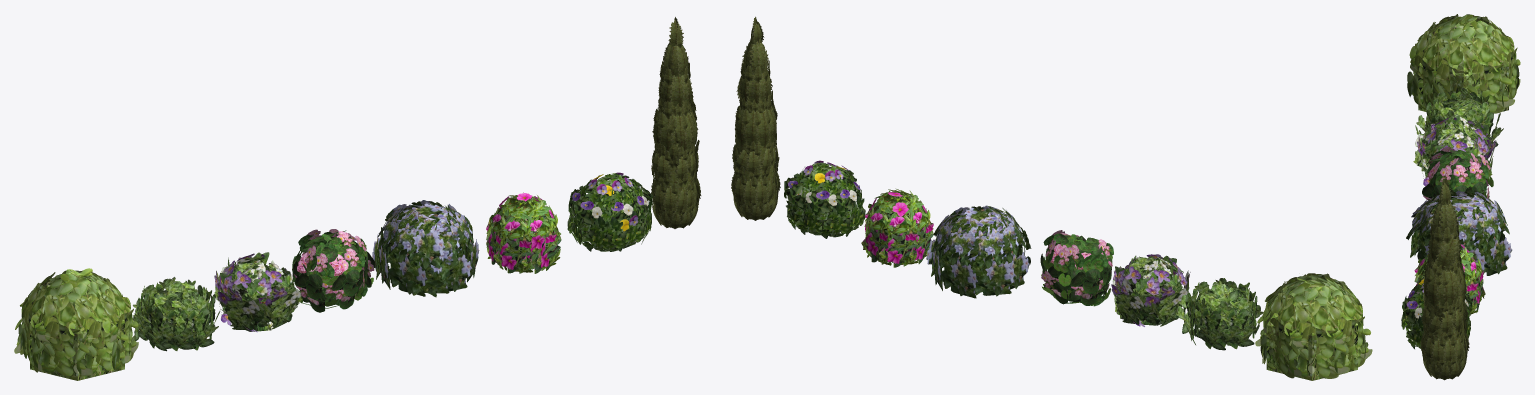
File: bushes tepi bench.obj
3 renders of one model, left to right at view 1: azimuth 30°, elevation 25°; view 2: azimuth 150°, elevation 25°; view 3: azimuth 270°, elevation 25°, orthographic. The views are drawn at different scales.
Visible parts, largest first — view 1: Mesh641 Group733 Group639 Component_14_1 Model, Mesh379 Group423 Group331 Component_14_1 Model, Mesh582 Group670 Group668 Group639 Component_14_1 Model, Mesh554 Group638 Group430 Component_14_1 Model, Mesh588 Group676 Group668 Group639 Component_14_1 Model; view 2: Mesh641 Group733 Group639 Component_14_1 Model, Mesh354 Group396 Group390 Group331 Component_14_1 Model, Mesh963 Group1104 Group885 Component_14_1 Model, Mesh612 Group702 Group694 Group639 Component_14_1 Model, Mesh344 Group385 Group379 Group331 Component_14_1 Model, Mesh355 Group397 Group390 Group331 Component_14_1 Model, Mesh704 Group802 Group798 Group748 Component_14_1 Model, Mesh345 Group386 Group379 Group331 Component_14_1 Model, Mesh266 Group297 Group288 Group198 Component_14_1 Model; view 3: Mesh641 Group733 Group639 Component_14_1 Model, Mesh963 Group1104 Group885 Component_14_1 Model, Mesh636 Group728 Group720 Group639 Component_14_1 Model, Mesh325 Group364 Group357 Group331 Component_14_1 Model, Mesh630 Group722 Group720 Group639 Component_14_1 Model, Mesh334 Group374 Group368 Group331 Component_14_1 Model, Mesh563 Group649 Group641 Group639 Component_14_1 Model, Mesh926 Group1060 Group1056 Group885 Component_14_1 Model, Mesh335 Group375 Group368 Group331 Component_14_1 Model, Mesh557 Group643 Group641 Group639 Component_14_1 Model, Mesh576 Group663 Group655 Group639 Component_14_1 Model, Mesh882 Group1001 Group999 Group885 Component_14_1 Model (+73 smaller).
Boxes of the visible parts, x1,y1,x2,y2 form: Mesh641 Group733 Group639 Component_14_1 Model: [30, 277, 124, 380]; Mesh379 Group423 Group331 Component_14_1 Model: [412, 229, 445, 268]; Mesh582 Group670 Group668 Group639 Component_14_1 Model: [45, 321, 79, 351]; Mesh554 Group638 Group430 Component_14_1 Model: [580, 181, 648, 248]; Mesh588 Group676 Group668 Group639 Component_14_1 Model: [42, 294, 73, 322]; Mesh641 Group733 Group639 Component_14_1 Model: [1266, 279, 1357, 380]; Mesh354 Group396 Group390 Group331 Component_14_1 Model: [985, 261, 1016, 296]; Mesh963 Group1104 Group885 Component_14_1 Model: [737, 32, 775, 219]; Mesh612 Group702 Group694 Group639 Component_14_1 Model: [1295, 300, 1327, 325]; Mesh344 Group385 Group379 Group331 Component_14_1 Model: [950, 260, 977, 295]; Mesh355 Group397 Group390 Group331 Component_14_1 Model: [981, 232, 1010, 262]; Mesh704 Group802 Group798 Group748 Component_14_1 Model: [879, 232, 917, 267]; Mesh345 Group386 Group379 Group331 Component_14_1 Model: [951, 233, 979, 262]; Mesh266 Group297 Group288 Group198 Component_14_1 Model: [1070, 268, 1100, 293]; Mesh641 Group733 Group639 Component_14_1 Model: [1418, 23, 1508, 111]; Mesh963 Group1104 Group885 Component_14_1 Model: [1425, 194, 1464, 378]; Mesh636 Group728 Group720 Group639 Component_14_1 Model: [1460, 37, 1492, 62]; Mesh325 Group364 Group357 Group331 Component_14_1 Model: [1458, 218, 1483, 248]; Mesh630 Group722 Group720 Group639 Component_14_1 Model: [1471, 64, 1503, 90]; Mesh334 Group374 Group368 Group331 Component_14_1 Model: [1490, 237, 1512, 274]; Mesh563 Group649 Group641 Group639 Component_14_1 Model: [1434, 38, 1463, 64]; Mesh926 Group1060 Group1056 Group885 Component_14_1 Model: [1435, 236, 1457, 270]; Mesh335 Group375 Group368 Group331 Component_14_1 Model: [1482, 211, 1505, 240]; Mesh557 Group643 Group641 Group639 Component_14_1 Model: [1435, 63, 1468, 92]; Mesh576 Group663 Group655 Group639 Component_14_1 Model: [1417, 31, 1438, 59]; Mesh882 Group1001 Group999 Group885 Component_14_1 Model: [1443, 270, 1460, 305].
Bounding box in the file's own units: 629 × 191 × 103.
13 materials, 13 textured.
